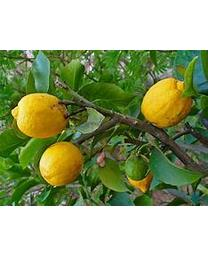lemon: (142, 77, 193, 129), (11, 93, 69, 136), (41, 143, 83, 187), (125, 153, 152, 181)
